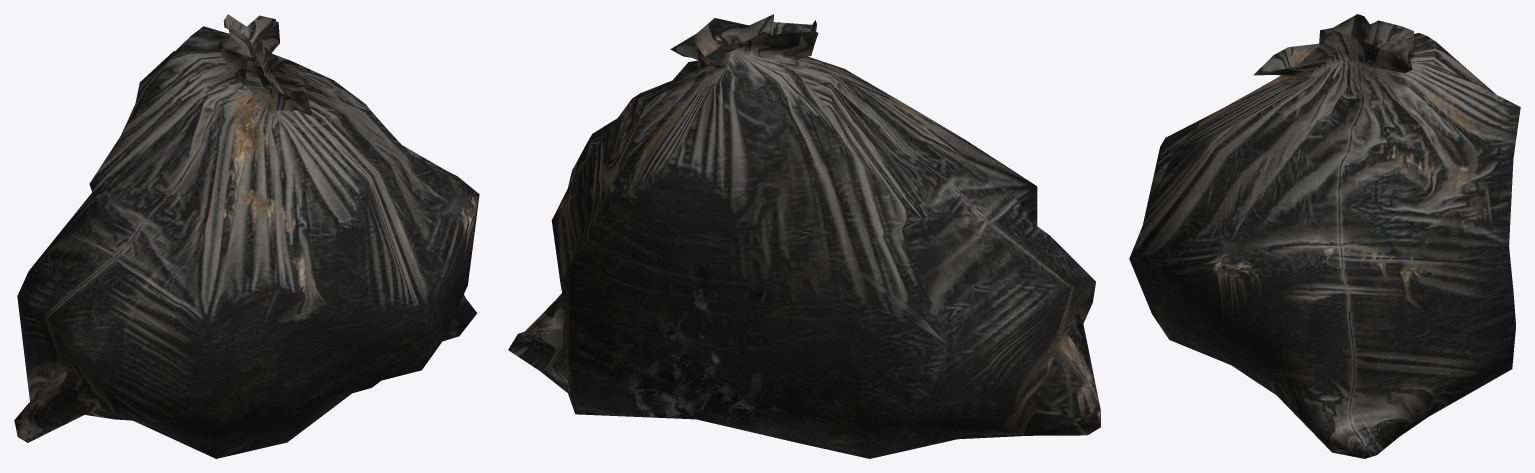
File: trash-bag.glb
3 views of the same model, side by side, from view 1: azimuth 30°, elevation 25°; view 2: azimuth 150°, elevation 25°; view 3: azimuth 270°, elevation 25° (orthographic). The views are drawn at different scales.
Parts seen in each view (by area): view 1: defaultMaterial; view 2: defaultMaterial; view 3: defaultMaterial.
Boxes of the visible parts, x1,y1,x2,y2 form: defaultMaterial: (14,14,479,458); defaultMaterial: (508,14,1100,458); defaultMaterial: (1129,14,1520,458).
Size of the model in its own units: 1.04 by 0.7 by 0.7455.
Materials: 1 (1 with a texture image).
